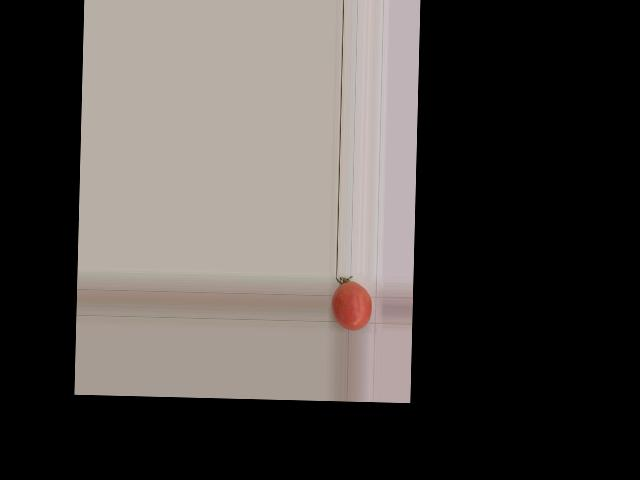tomato: (331, 280, 372, 330)
